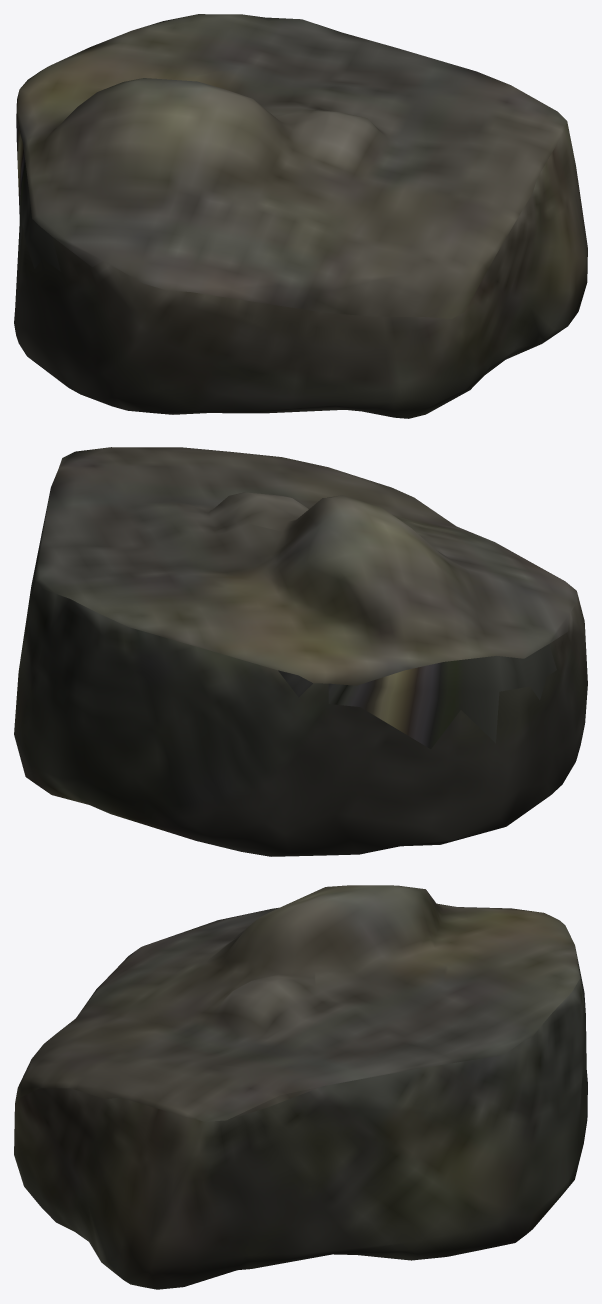
3 renders of one model, top to bottom at view 1: azimuth 30°, elevation 25°; view 2: azimuth 150°, elevation 25°; view 3: azimuth 270°, elevation 25°, orthographic. The views are drawn at different scales.
Visible parts, largest first — view 1: smallrock5; view 2: smallrock5; view 3: smallrock5.
Part boxes in pixels (x1,y1,x2,y2): smallrock5: [14, 14, 587, 418]; smallrock5: [14, 447, 587, 856]; smallrock5: [14, 885, 587, 1289].
Size of the model in its own units: 3.57 by 1.74 by 3.48.
1 material, 1 textured.
